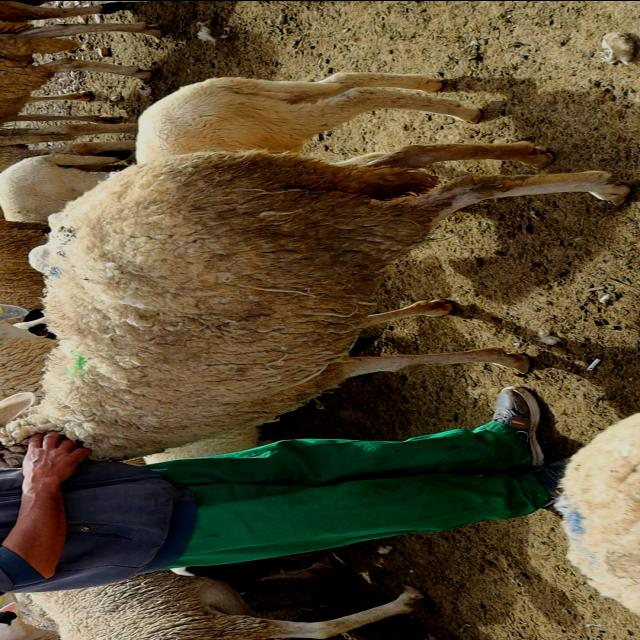Score_3: (0, 141, 629, 466)
